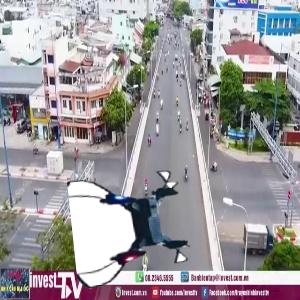drone: (73, 167, 193, 287)
